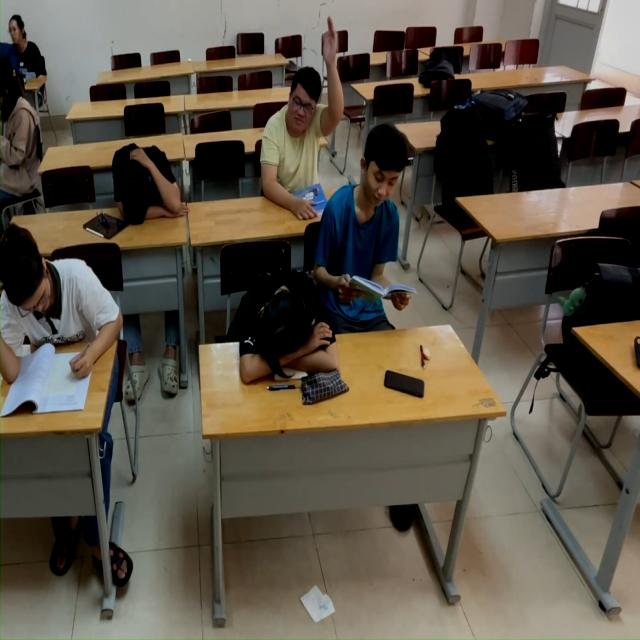raise_hand: (253, 16, 350, 219)
read: (311, 113, 427, 346)
